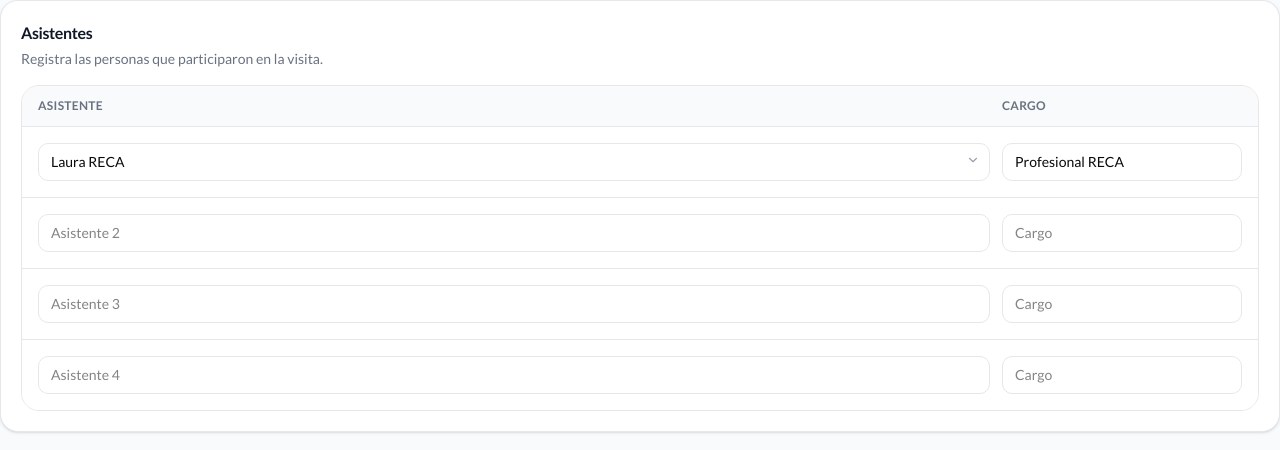
Test: FixedAsistentesSection › autocompletes cargo when the user selects another professional in the first row
Replace the text in the field with id "asistentes" with "Marta" at [514, 162], box [38,143,990,181]
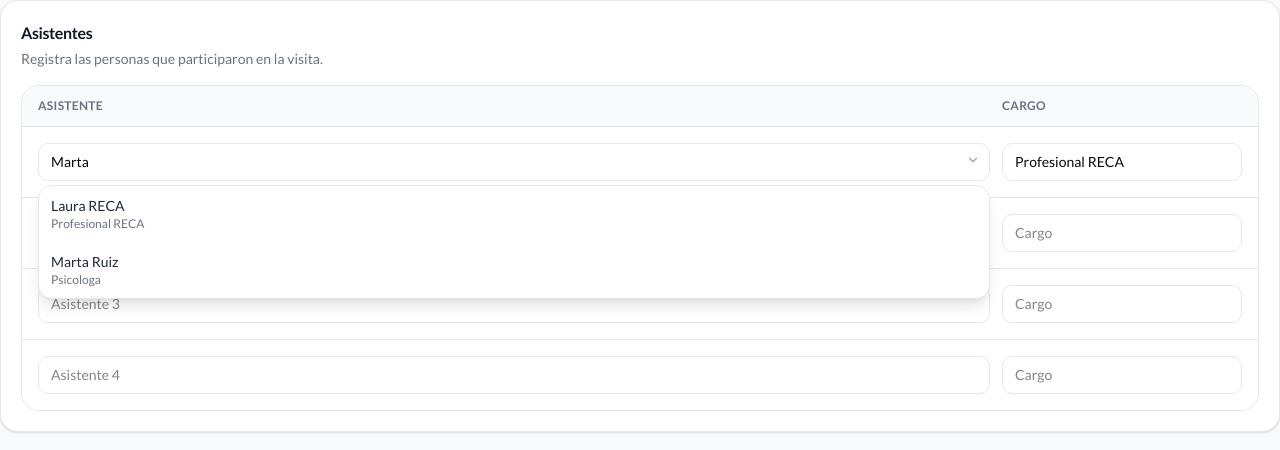
Press the mouse on the text "Marta Ruiz" at [85, 262], box [51,253,118,270]
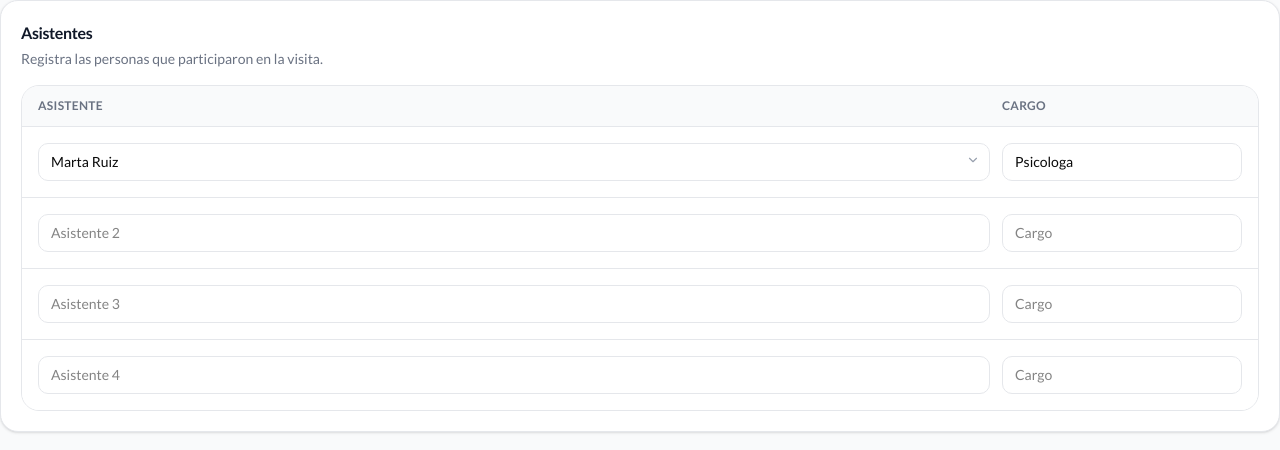
Expected: the field with id "asistentes" holds "Marta Ruiz", [38,143,990,181]
Expected: the field with id "asistentes" holds "Psicologa", [1002,143,1242,181]
